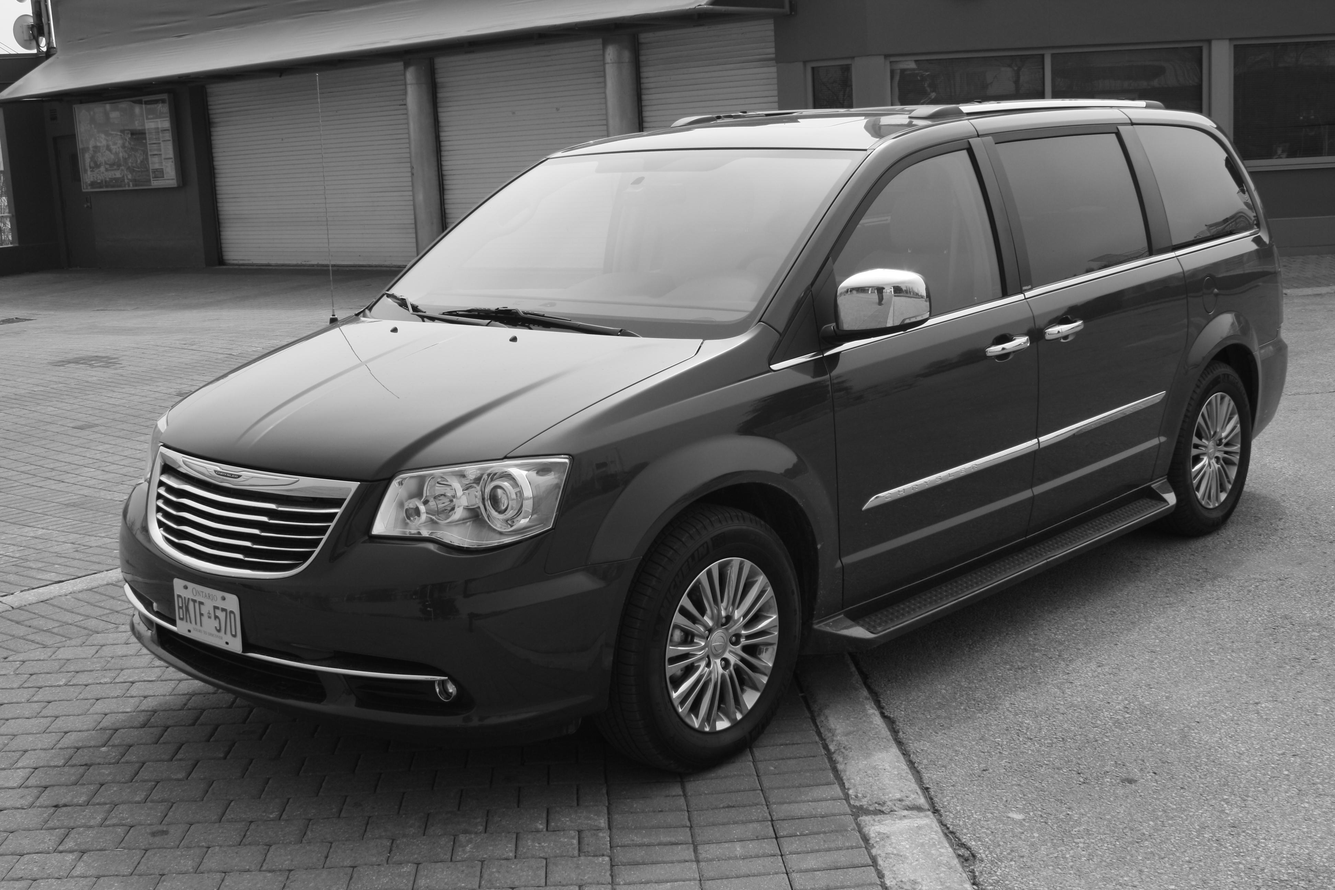car: (121, 98, 1289, 770)
